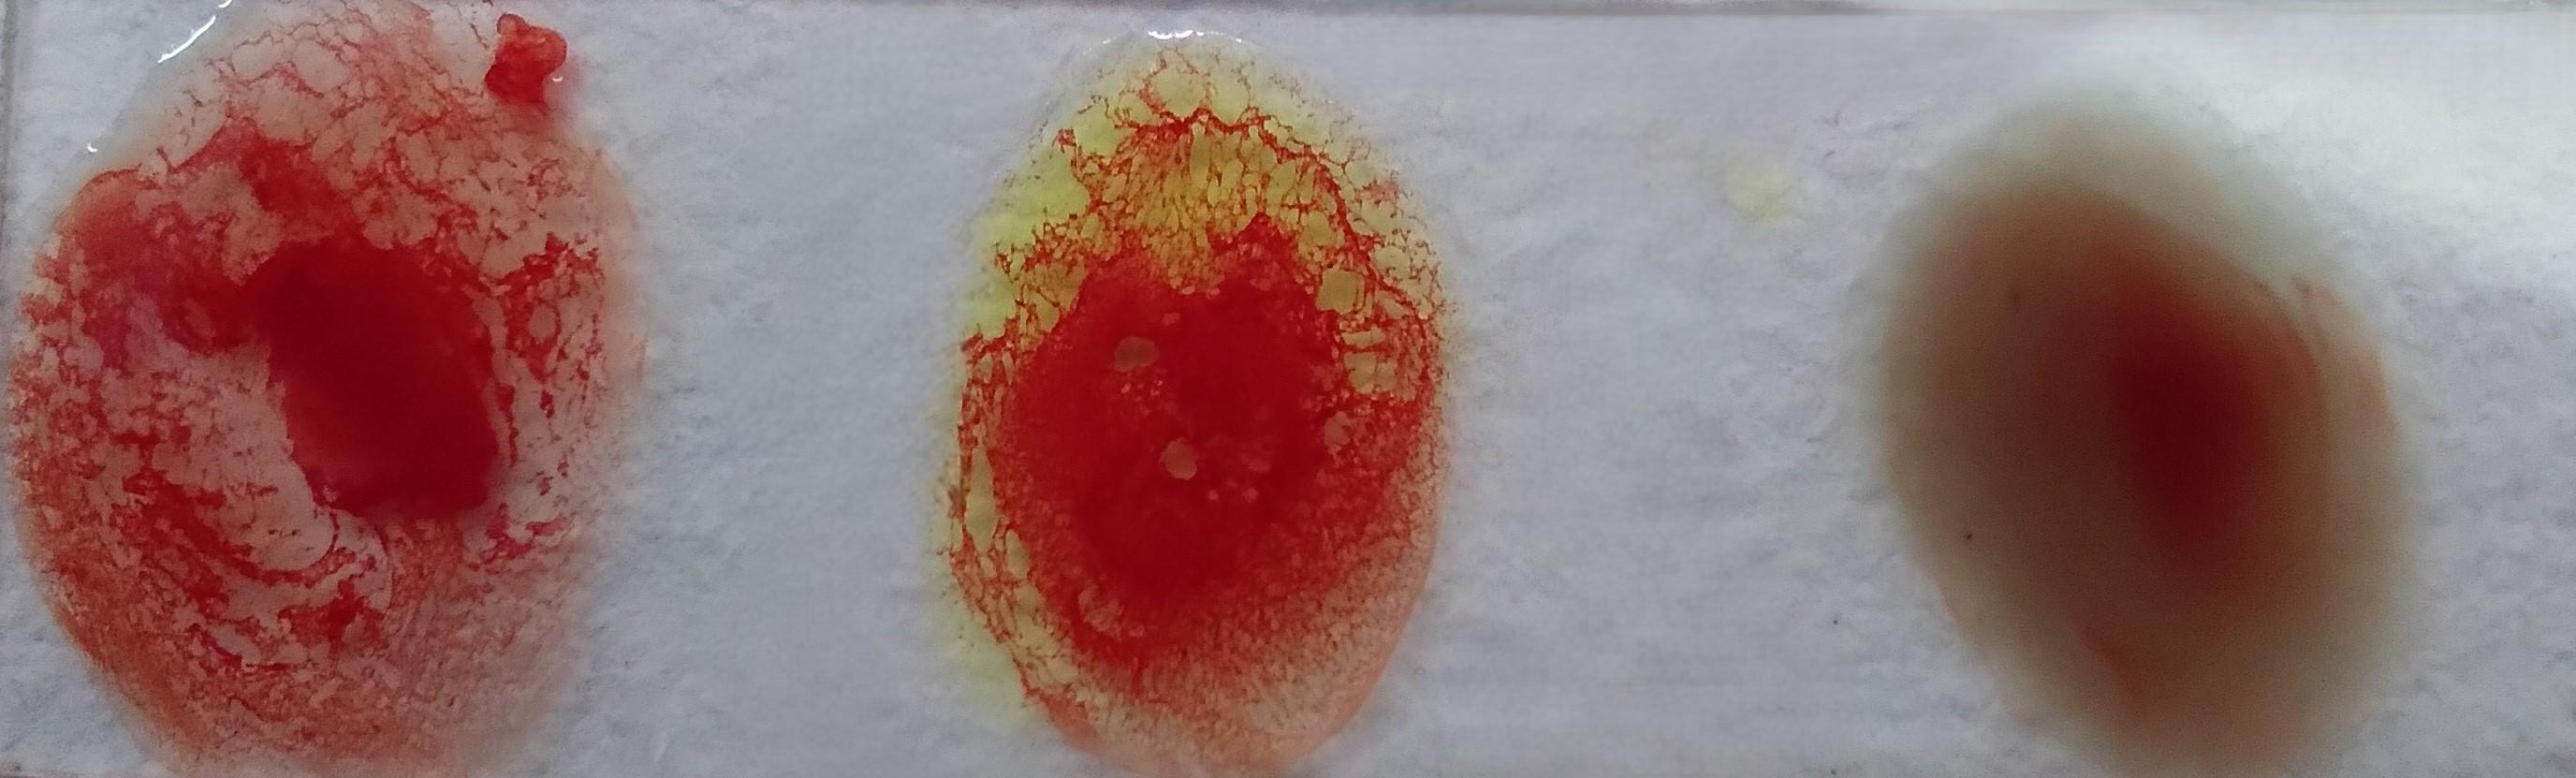B: (925, 49, 1419, 778)
D: (43, 20, 577, 778)
